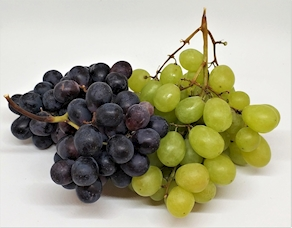Black grapes: (39, 80, 135, 168)
Green grapes: (169, 70, 240, 190)
